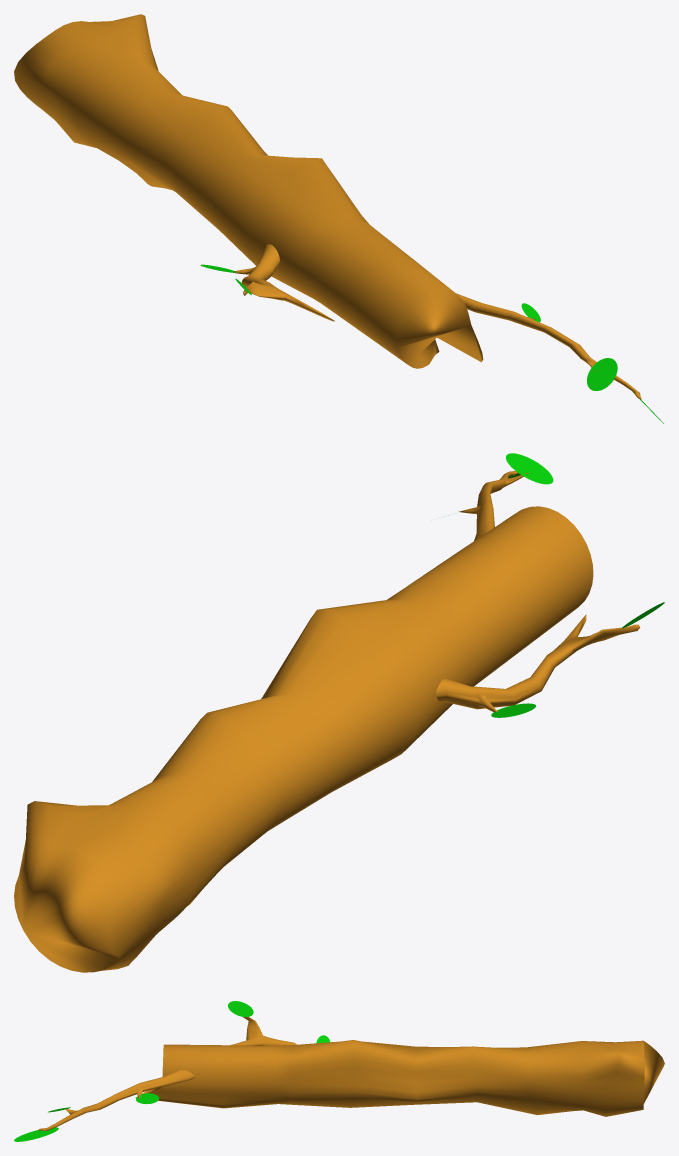
Rendered from log1.fbx.
The picture shows the model from 3 angles, top to bottom: view 1: azimuth 30°, elevation 25°; view 2: azimuth 150°, elevation 25°; view 3: azimuth 270°, elevation 25°; orthographic projection. The views are drawn at different scales.
Parts seen in each view (by area): view 1: Cylinder.005, Cylinder.006, Cylinder.007, Circle.009; view 2: Cylinder.005, Cylinder.006, Cylinder.007, Circle.009; view 3: Cylinder.005, Cylinder.007, Cylinder.006, Circle.005, Circle.010.
Boxes of the visible parts, x1,y1,x2,y2 form: Cylinder.005: (14, 14, 483, 368); Cylinder.006: (233, 244, 334, 321); Cylinder.007: (456, 293, 641, 399); Circle.009: (587, 358, 617, 390); Cylinder.005: (14, 506, 593, 972); Cylinder.006: (436, 614, 640, 712); Cylinder.007: (458, 471, 528, 540); Circle.009: (506, 453, 553, 484); Cylinder.005: (135, 1040, 664, 1116); Cylinder.007: (38, 1070, 194, 1130); Cylinder.006: (230, 1016, 296, 1045); Circle.005: (228, 1001, 253, 1016); Circle.010: (14, 1127, 58, 1141).
Bounding box in the file's own units: 422 × 187 × 1363.
